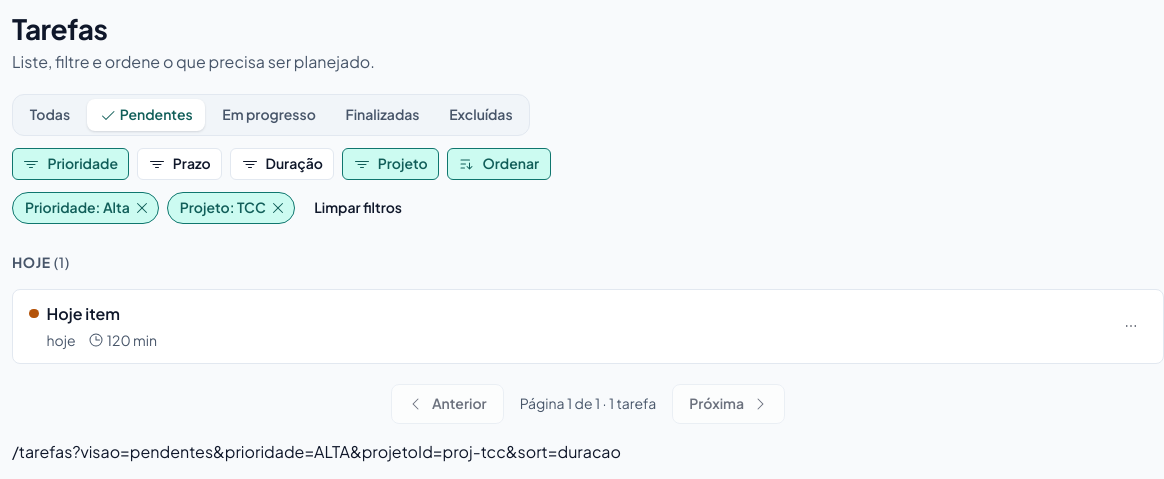
TarefasPage › filtros › T10: chip de filtro ativo é removível e Limpar filtros volta ao default
Expected: the text "Hoje item" is shown, [47,302,120,326]
Click the button with aria-label "remover filtro prioridade: alta".
click(85, 208)  # box [12,192,159,224]
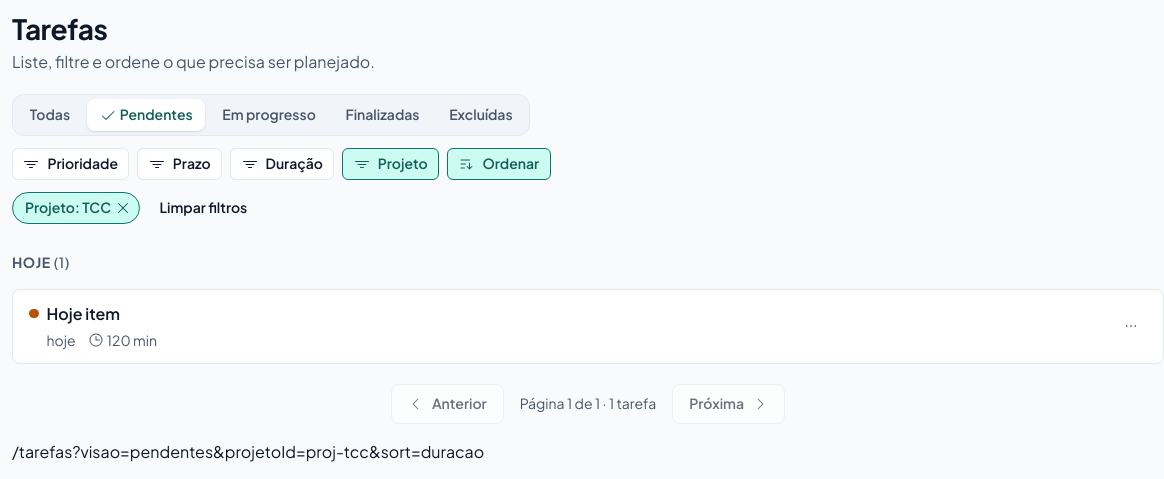
Now the text with test id "local" reads "/tarefas?visao=pendentes&projetoId=proj-tcc&sort=duracao", box [12,441,484,462]
Click the button "Limpar filtros".
click(203, 208)  # box [148,192,259,224]
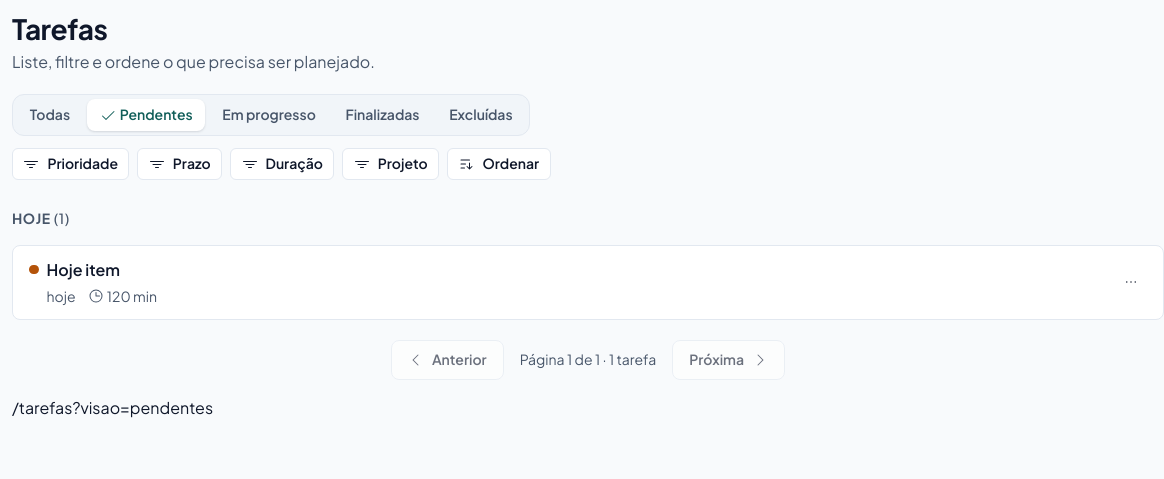
Now the text with test id "local" reads "/tarefas?visao=pendentes", box [12,397,213,418]
